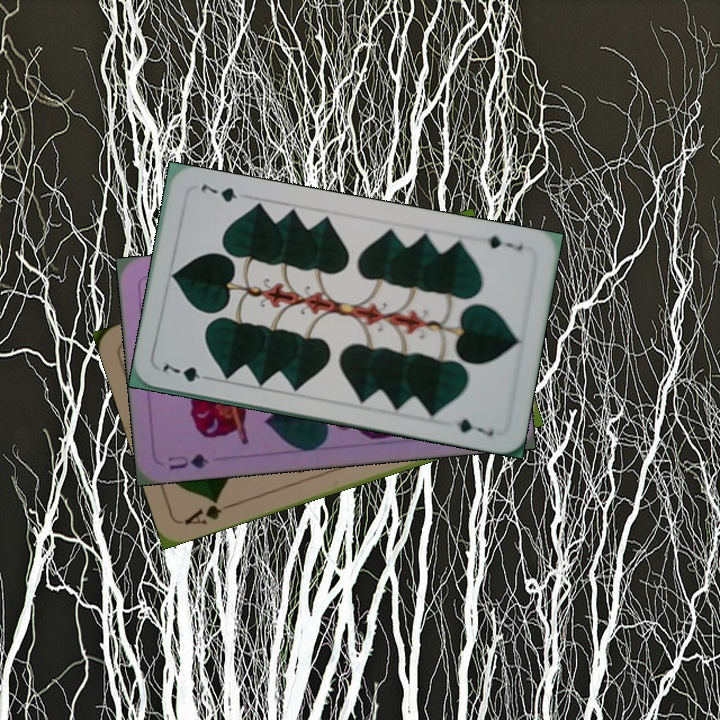G7: (158, 359, 215, 385), (476, 231, 525, 253)
GA: (180, 494, 237, 528)
GU: (164, 449, 211, 472)
